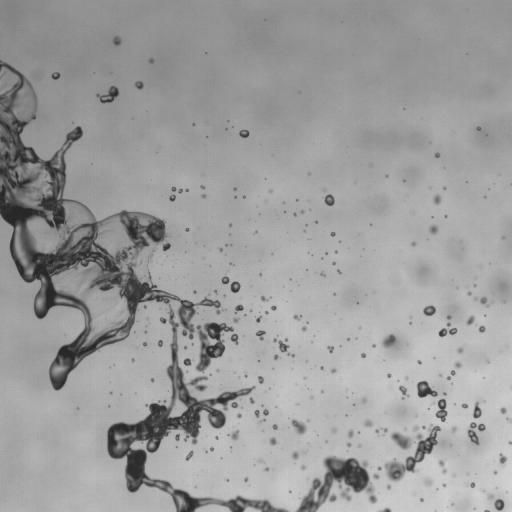droplet: (295, 455, 377, 511), (384, 424, 440, 481), (467, 422, 485, 444), (96, 86, 118, 103), (416, 380, 437, 397), (432, 398, 447, 421), (438, 323, 457, 336), (291, 419, 306, 434), (382, 334, 396, 347), (423, 305, 435, 315), (494, 499, 504, 511), (324, 194, 334, 205), (399, 385, 408, 397), (499, 453, 507, 465), (256, 330, 265, 340), (229, 430, 238, 440), (230, 333, 238, 344), (433, 194, 441, 204), (480, 297, 488, 307), (466, 315, 474, 325), (113, 36, 121, 45), (429, 225, 437, 234), (235, 304, 243, 313), (239, 130, 249, 137), (135, 81, 143, 89), (291, 451, 299, 459), (183, 358, 192, 365), (364, 420, 373, 427), (186, 451, 193, 460), (269, 437, 276, 445), (52, 72, 59, 79), (478, 325, 485, 332), (454, 361, 461, 368), (425, 478, 432, 485), (348, 429, 353, 438), (169, 195, 175, 201), (256, 316, 262, 322), (457, 347, 463, 353), (500, 407, 506, 413), (451, 426, 457, 432), (373, 473, 379, 479), (487, 493, 493, 499), (293, 315, 300, 320), (258, 376, 263, 383), (254, 410, 259, 417), (260, 296, 266, 301), (328, 346, 333, 352), (461, 403, 467, 408), (263, 409, 268, 415), (413, 425, 418, 431), (300, 465, 306, 470), (274, 354, 279, 359), (331, 368, 336, 373), (450, 370, 455, 375), (272, 424, 277, 429), (470, 482, 475, 487), (158, 340, 162, 346), (175, 434, 179, 440), (149, 58, 153, 63), (271, 306, 276, 310), (233, 318, 238, 322), (302, 326, 306, 331), (250, 398, 254, 403), (346, 443, 351, 447), (435, 153, 439, 157), (201, 194, 205, 198), (331, 232, 335, 236), (218, 247, 222, 251), (447, 315, 451, 319), (361, 353, 365, 357), (362, 398, 366, 402), (237, 414, 241, 418), (332, 428, 336, 432), (377, 466, 381, 470), (412, 242, 415, 246), (321, 272, 324, 276), (467, 292, 471, 295), (417, 360, 421, 363), (387, 374, 391, 377), (265, 467, 268, 471), (477, 127, 480, 130), (201, 185, 204, 188), (337, 270, 340, 273), (214, 290, 217, 293), (143, 342, 146, 345), (447, 376, 450, 379), (151, 378, 154, 381), (210, 447, 213, 450), (494, 471, 497, 474), (244, 478, 247, 481), (387, 485, 390, 488), (260, 419, 264, 421), (186, 188, 188, 191), (293, 213, 296, 215), (444, 215, 447, 217), (186, 228, 188, 231), (332, 262, 335, 264), (131, 359, 134, 361), (215, 436, 218, 438), (509, 441, 511, 444), (259, 460, 262, 462), (443, 483, 445, 486), (266, 311, 268, 313), (185, 346, 187, 348), (321, 367, 323, 369), (405, 377, 407, 379), (311, 396, 313, 398), (358, 445, 360, 447)
ligament: (0, 60, 289, 511), (273, 338, 294, 356), (221, 276, 240, 292), (473, 401, 481, 418), (438, 460, 446, 473), (375, 428, 387, 434), (377, 507, 391, 511), (171, 187, 182, 192), (147, 251, 153, 260), (507, 418, 511, 422), (484, 510, 489, 511)
